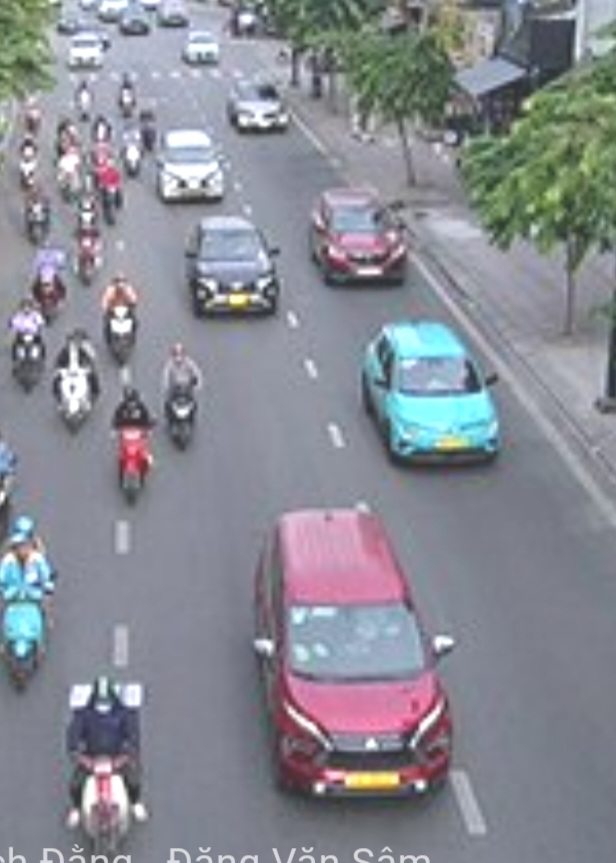car: (254, 511, 458, 804), (362, 324, 502, 467), (309, 189, 409, 287), (187, 216, 279, 319), (156, 130, 225, 203), (225, 78, 293, 133)
